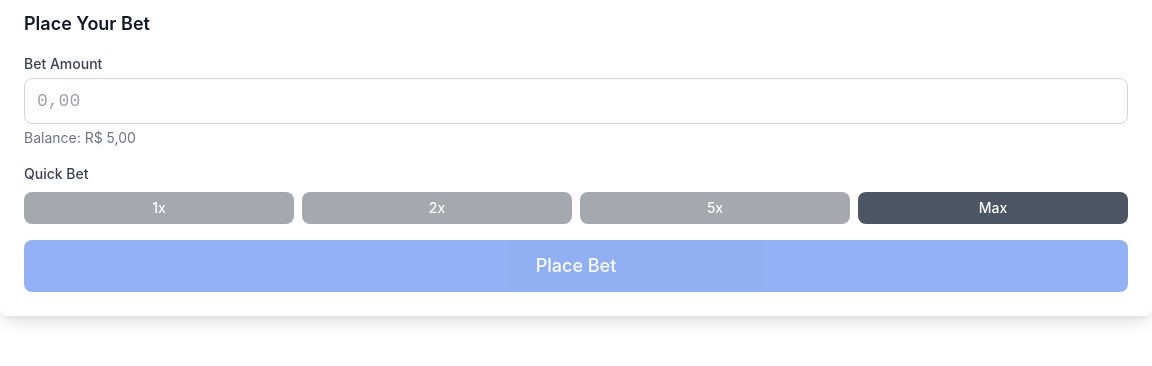
Test: BetForm Integration - Validation with Centavos › Balance validation › should show error when bet exceeds balance
This screenshot has width=1152, height=366.
User enters R$ 10.00 (1000 centavos, exceeds balance)
Type "10,00" into the field labelled "Bet Amount".
click(576, 101); type("10,00")  # box [24, 78, 1128, 124]
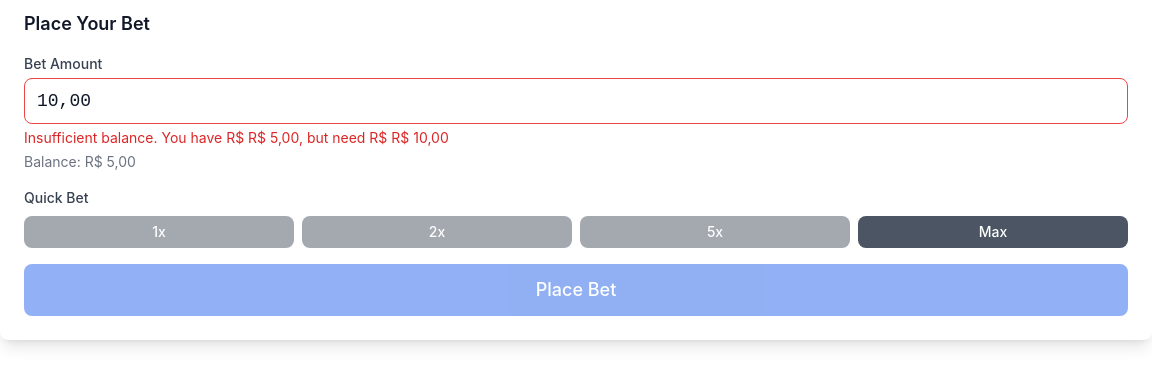
Result: the text "Insufficient balance. You have R$ R$ 5,00, but need R$ R$ 10,00" is shown at [24, 129, 449, 146]
